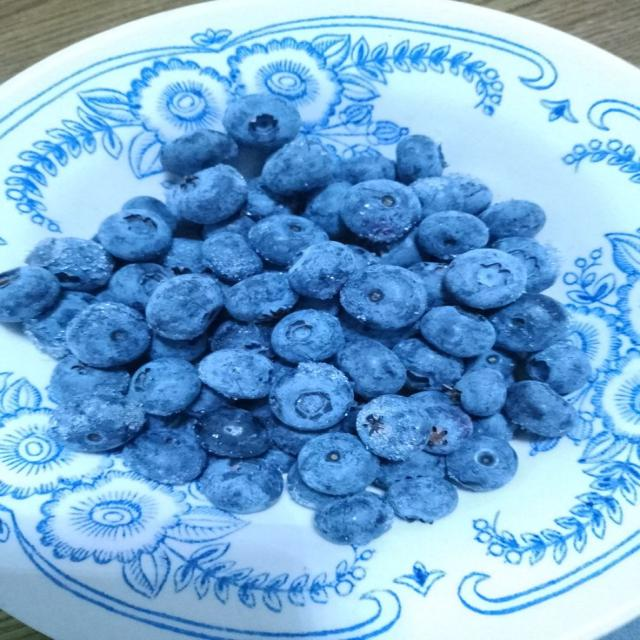blueberry: (270, 363, 353, 431), (51, 393, 144, 452), (340, 265, 426, 328), (67, 303, 150, 367), (341, 180, 421, 243), (298, 433, 379, 495), (147, 274, 223, 339), (445, 249, 526, 309), (23, 292, 96, 358), (167, 165, 247, 224), (123, 428, 206, 484), (357, 396, 429, 460), (27, 238, 113, 291), (254, 404, 339, 457), (200, 459, 283, 513), (490, 294, 568, 351), (223, 94, 300, 150), (336, 338, 406, 398), (314, 492, 393, 545), (504, 381, 577, 437), (249, 214, 327, 266), (262, 138, 333, 195), (130, 358, 200, 415), (447, 435, 517, 491), (420, 306, 495, 357), (196, 407, 271, 458), (288, 242, 355, 299), (98, 210, 171, 262), (272, 310, 344, 362), (48, 356, 129, 402), (225, 272, 298, 322), (199, 349, 273, 398), (160, 130, 238, 176), (493, 238, 559, 292), (394, 339, 463, 390), (417, 211, 488, 260), (526, 343, 592, 395), (0, 266, 60, 322), (386, 477, 458, 522), (107, 263, 173, 312), (202, 232, 262, 282), (340, 312, 418, 349), (303, 181, 351, 238), (375, 451, 445, 489), (480, 200, 546, 239), (422, 405, 473, 455), (455, 368, 507, 417), (396, 135, 445, 184), (211, 321, 273, 357), (287, 464, 336, 509), (411, 177, 464, 217), (244, 177, 292, 220), (121, 196, 178, 231), (268, 416, 317, 456), (409, 262, 450, 308), (448, 174, 492, 214), (339, 155, 395, 184), (150, 333, 208, 361), (380, 229, 422, 267), (164, 238, 206, 275), (467, 350, 515, 379), (186, 386, 228, 417), (203, 215, 255, 239), (409, 389, 458, 412), (474, 413, 514, 440), (147, 413, 196, 432), (260, 447, 295, 473), (296, 297, 341, 316), (345, 245, 379, 270), (334, 403, 361, 434)
